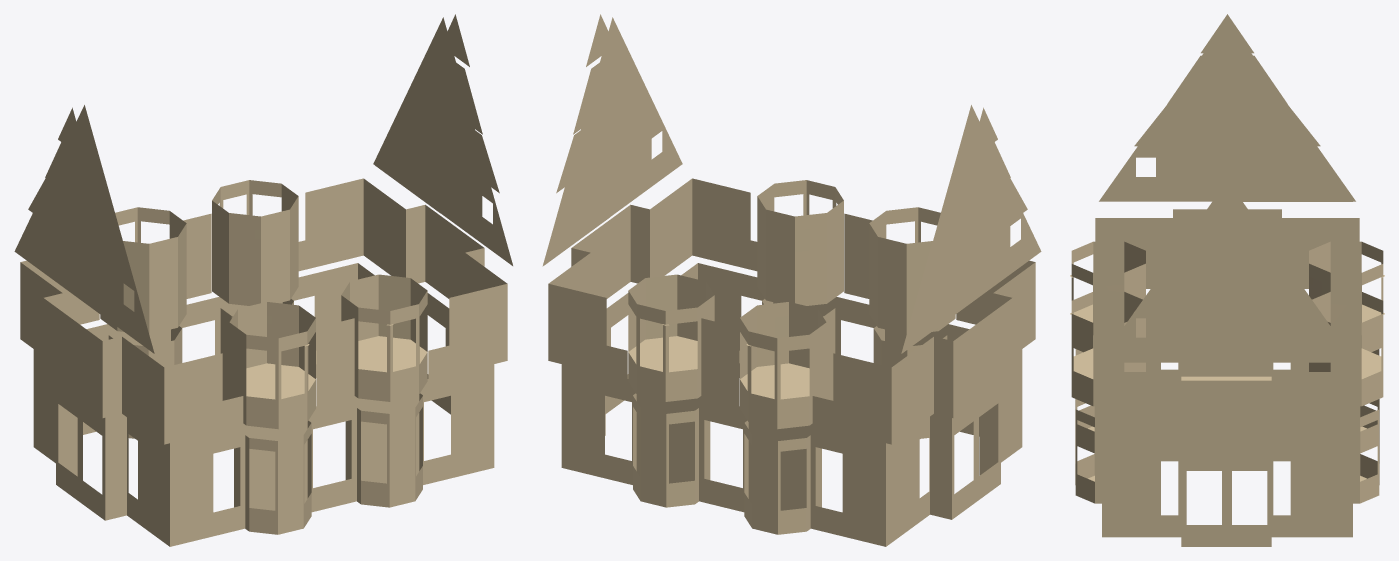
File: FairyTale34.gltf
3 renders of one model, left to right at view 1: azimuth 30°, elevation 25°; view 2: azimuth 150°, elevation 25°; view 3: azimuth 270°, elevation 25°, orthographic. The views are drawn at different scales.
Visible parts, largest first — view 1: HouseLG06_PlasterYellow; view 2: HouseLG06_PlasterYellow; view 3: HouseLG06_PlasterYellow.
Boxes of the visible parts, x1,y1,x2,y2 form: HouseLG06_PlasterYellow: (14,14,512,546); HouseLG06_PlasterYellow: (542,14,1041,546); HouseLG06_PlasterYellow: (1070,14,1384,546).
Size of the model in its own units: 19.81 by 19.61 by 15.33.
